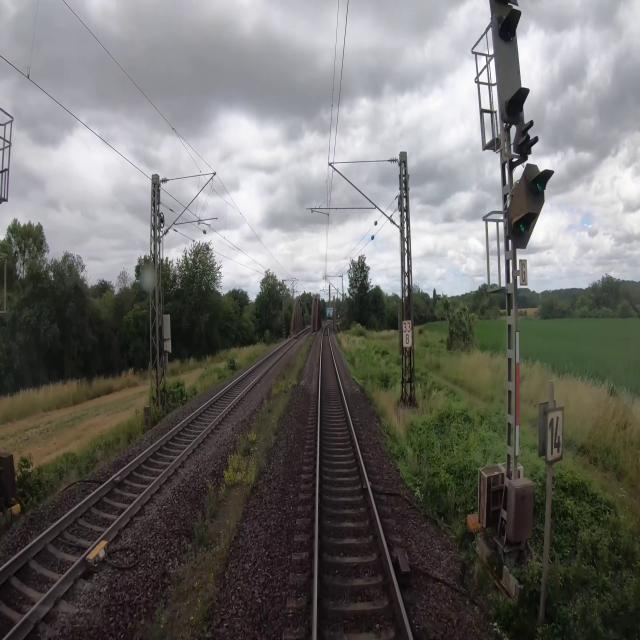Plant: (131, 335, 315, 639)
